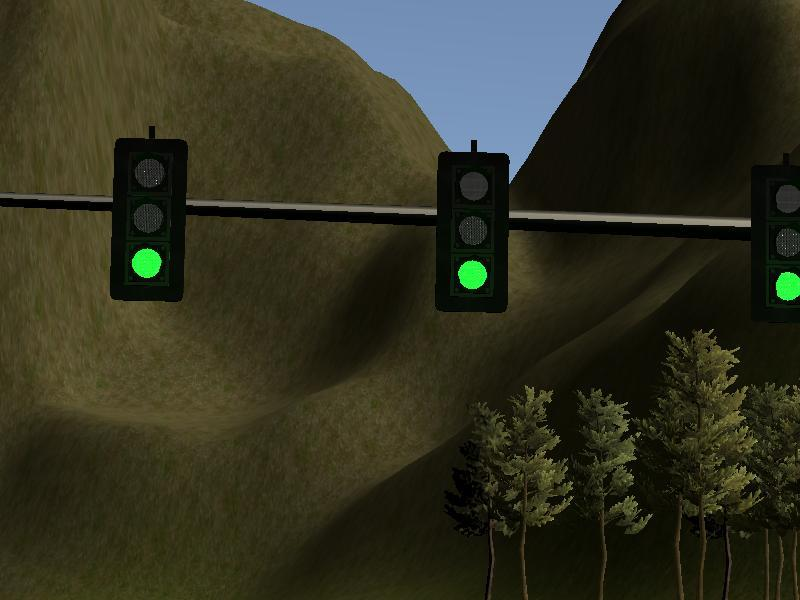Green: (118, 140, 185, 301), (439, 155, 506, 306), (751, 162, 800, 311)
